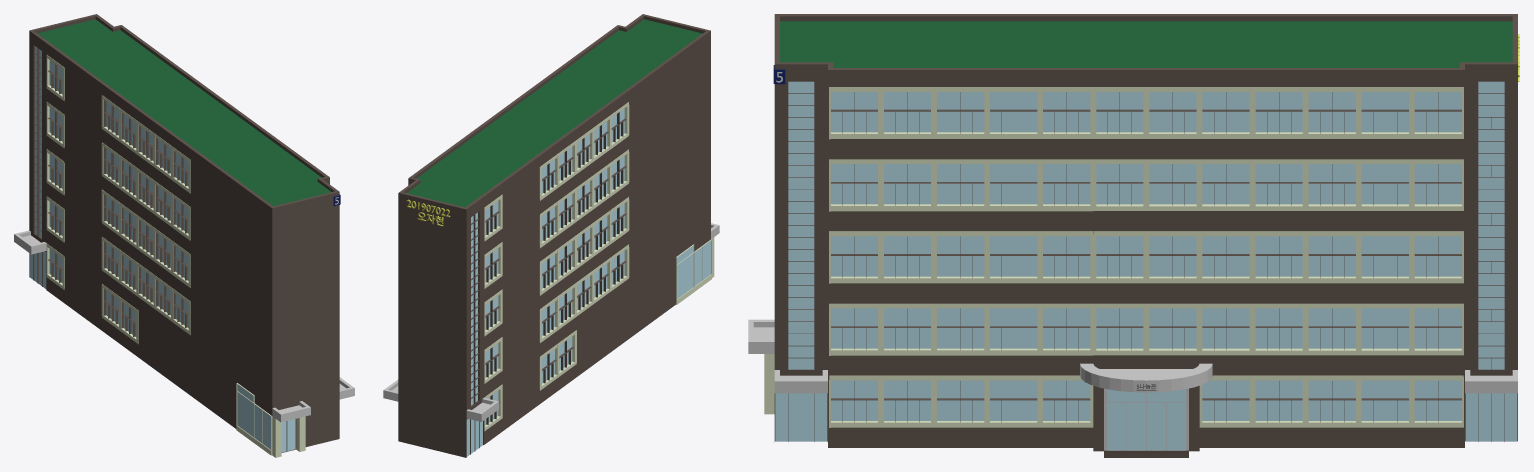
File: Nanumgwan.glb
The picture shows the model from 3 angles, left to right: view 1: azimuth 30°, elevation 25°; view 2: azimuth 150°, elevation 25°; view 3: azimuth 270°, elevation 25°; orthographic projection. The views are drawn at different scales.
Parts seen in each view (by area): view 1: main-center; view 2: main-center; view 3: main-center.
Part boxes in pixels (box(x1,y1,x2,y2)): main-center: box(14, 14, 354, 457); main-center: box(383, 14, 719, 457); main-center: box(748, 14, 1519, 457).
Bounding box in the file's own units: 75.1 × 157 × 291.
